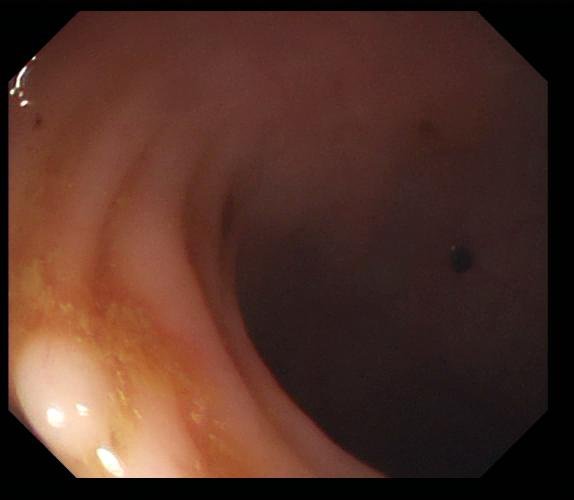polyp: (9, 318, 126, 473)
